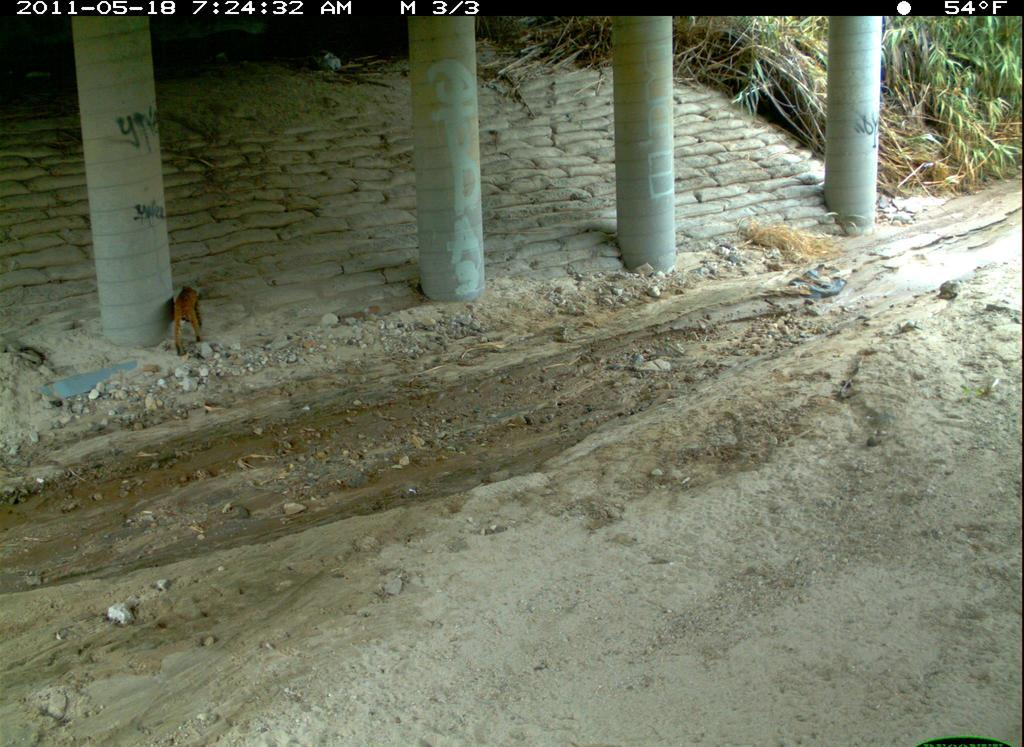bobcat: (339, 562, 416, 720)
